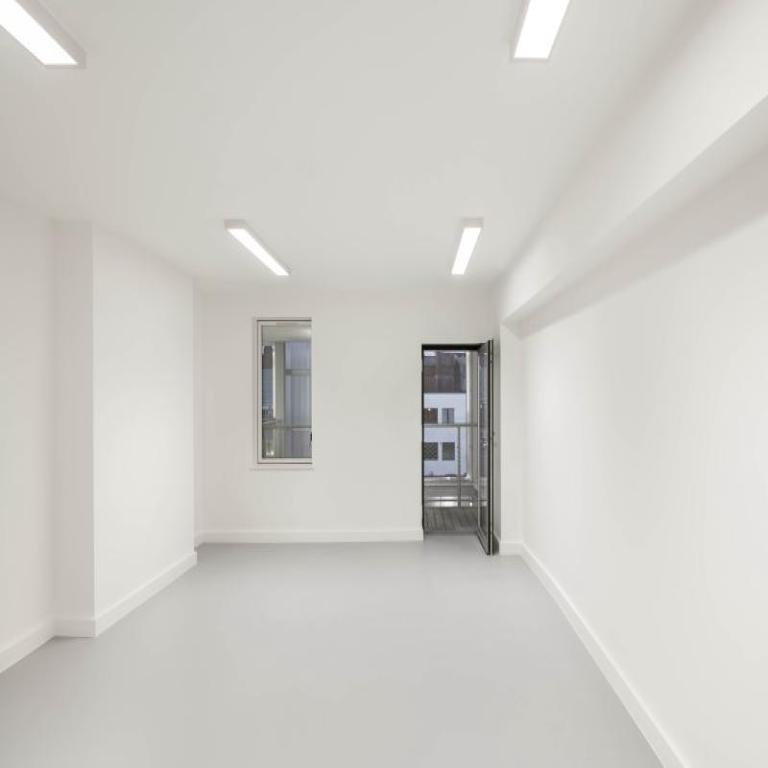white-walls: (525, 74, 757, 745)
